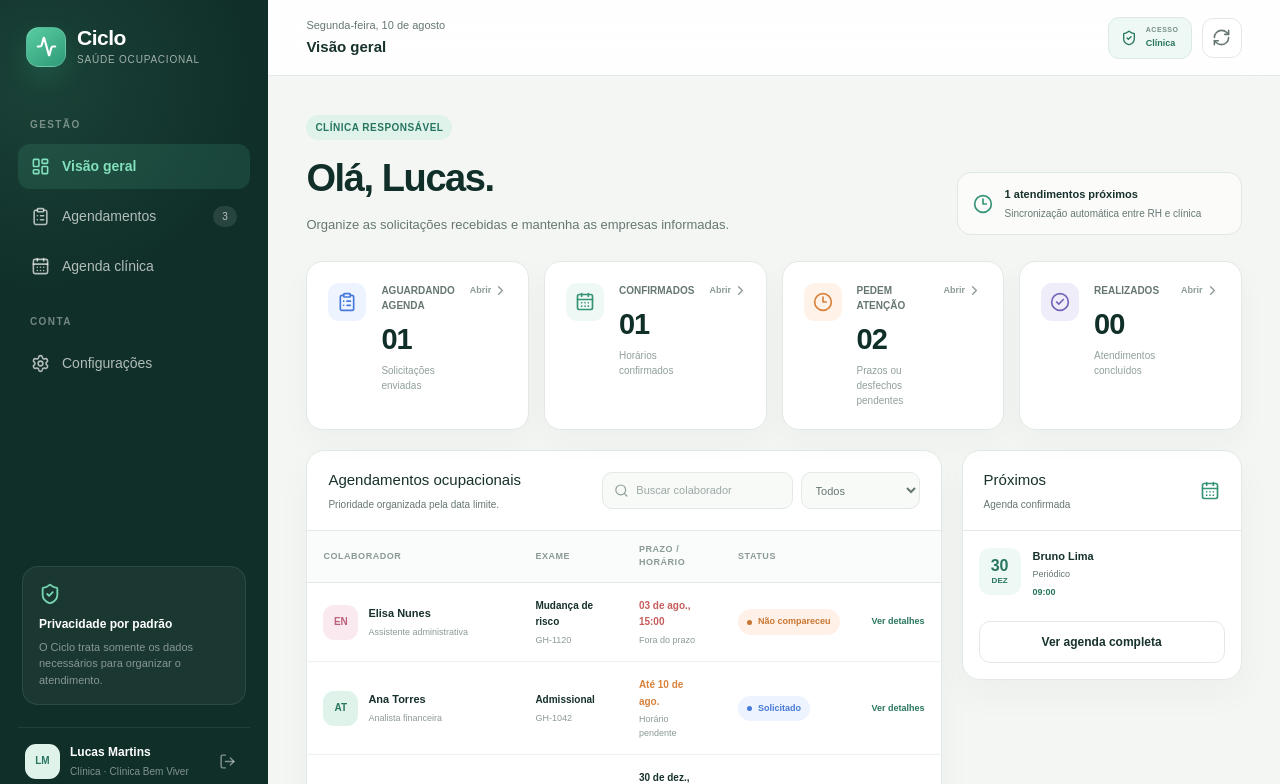
Test: Fluxo operacional por perfil › abre os registros contabilizados no indicador da clínica e permite ver detalhes
Click the button with aria-label "Abrir Pedem atenção: 2 agendamentos": (893, 346) [782,261,1004,430]
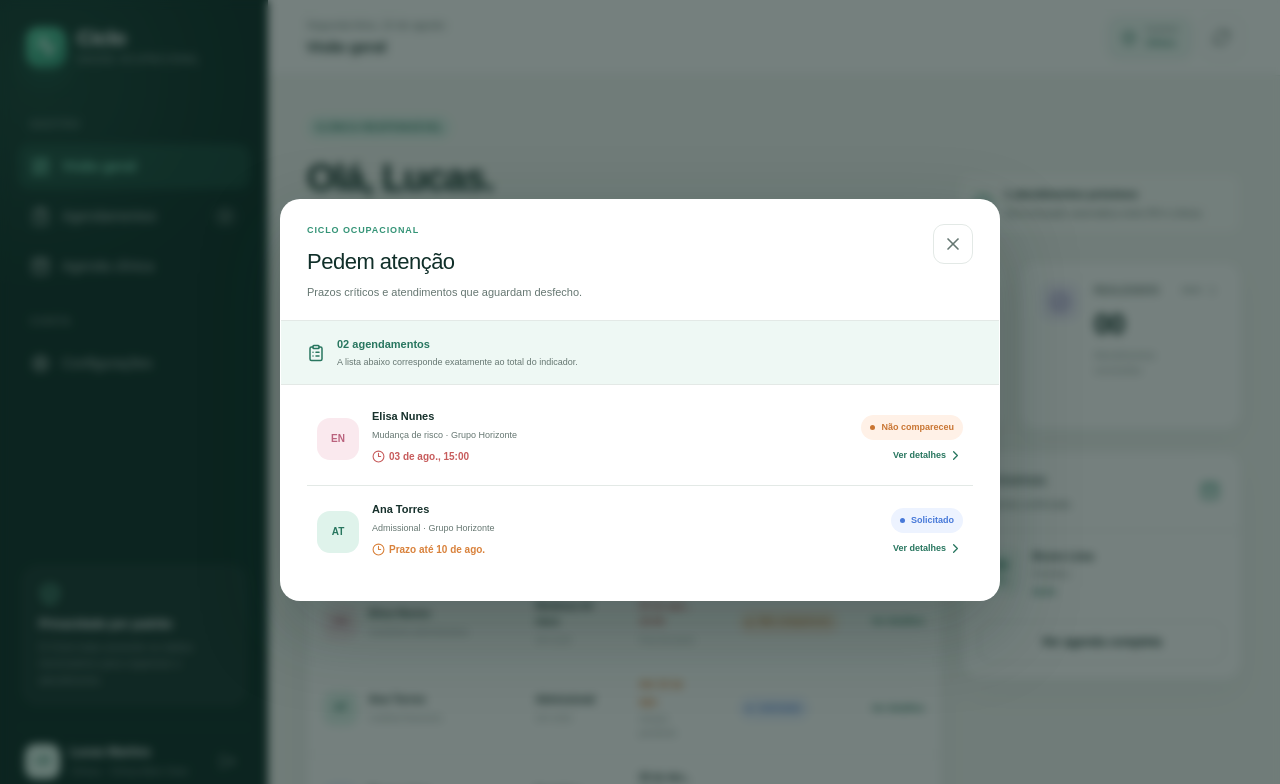
Expected: the text "02 agendamentos" is shown, [337,338,430,350]
Expected: the button with aria-label "Ver detalhes de Ana Torres" is shown
Expected: the button with aria-label "Ver detalhes de Elisa Nunes" is shown, [307,393,973,486]
Click the button with aria-label "Ver detalhes de Ana Torres": (338, 532) [307,486,973,578]
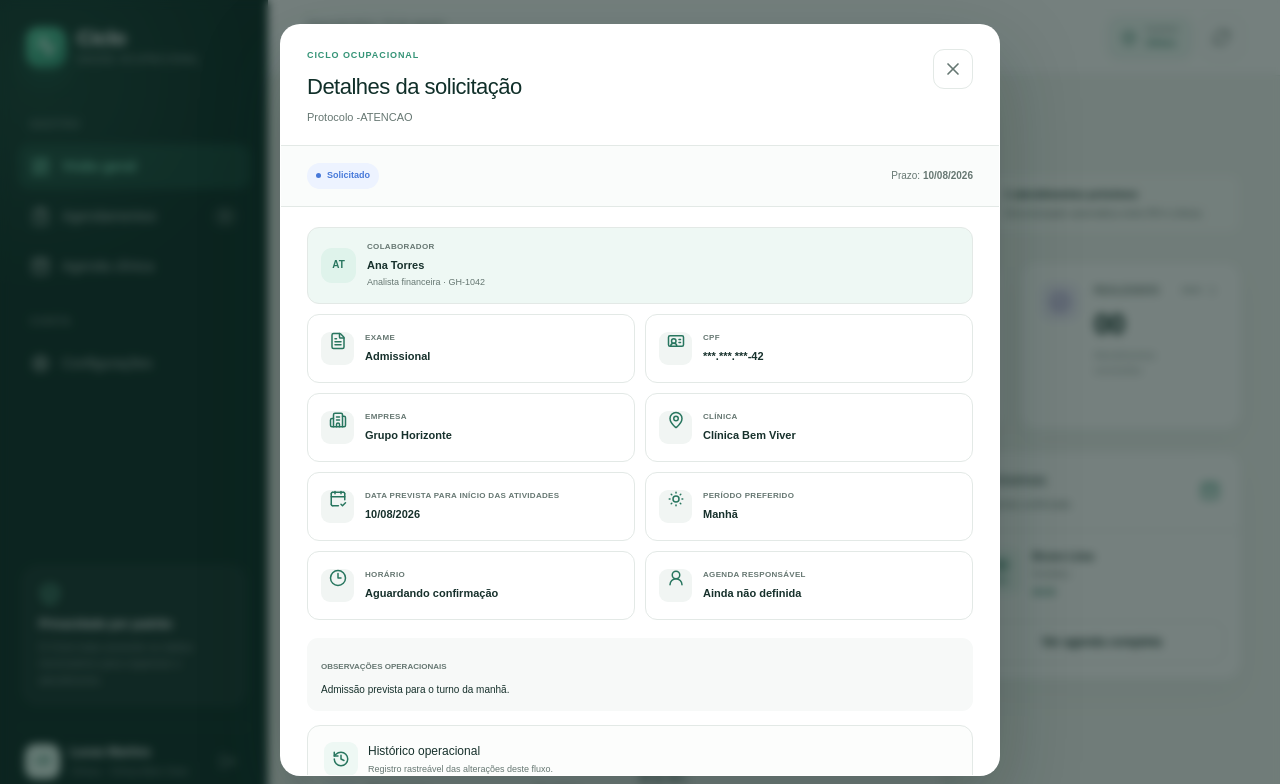
Expected: the heading "Detalhes da solicitação" is shown, [307,70,522,102]
